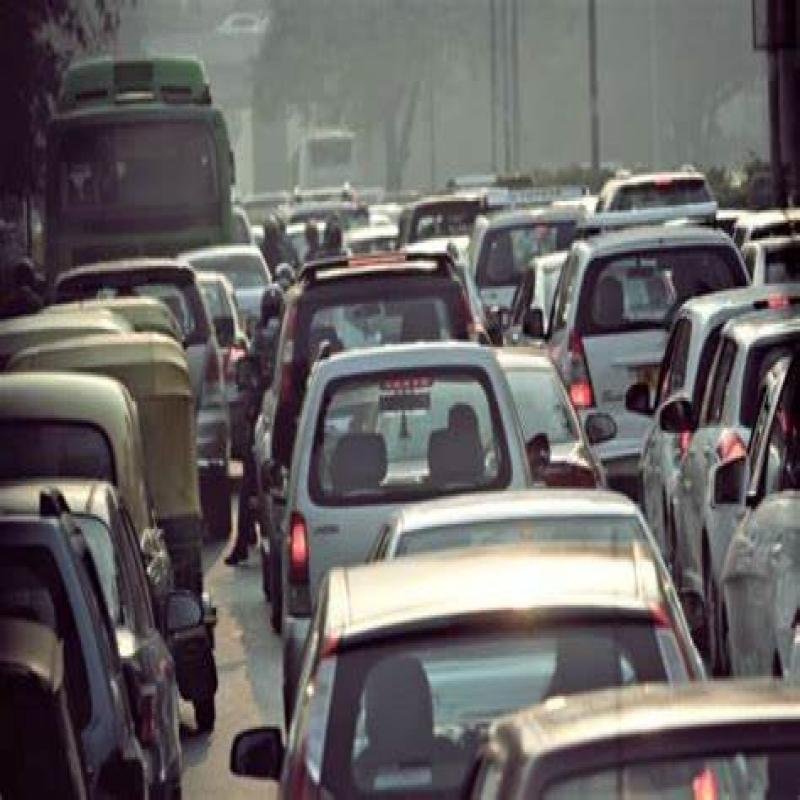car: (307, 559, 680, 800), (263, 344, 501, 643), (552, 234, 788, 520), (0, 499, 168, 800), (671, 291, 800, 620), (285, 263, 476, 484), (719, 376, 800, 689)
